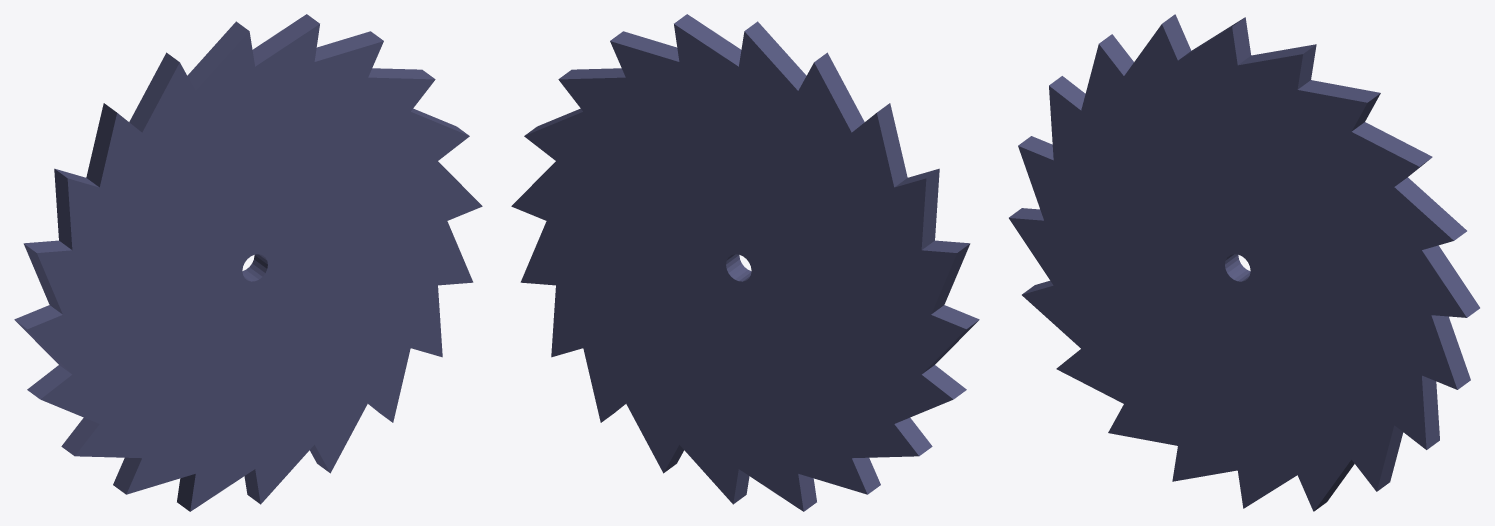
The model's file is Cortadora.fbx.
The picture shows the model from 3 angles, left to right: view 1: azimuth 30°, elevation 25°; view 2: azimuth 150°, elevation 25°; view 3: azimuth 330°, elevation 25°; orthographic projection.
Visible parts, largest first — view 1: Cortadora; view 2: Cortadora; view 3: Cortadora.
Part boxes in pixels (x1,y1,x2,y2): Cortadora: (14, 14, 482, 511); Cortadora: (511, 14, 979, 511); Cortadora: (1009, 14, 1479, 511).
Bounding box in the file's own units: 237 × 12.06 × 237.
